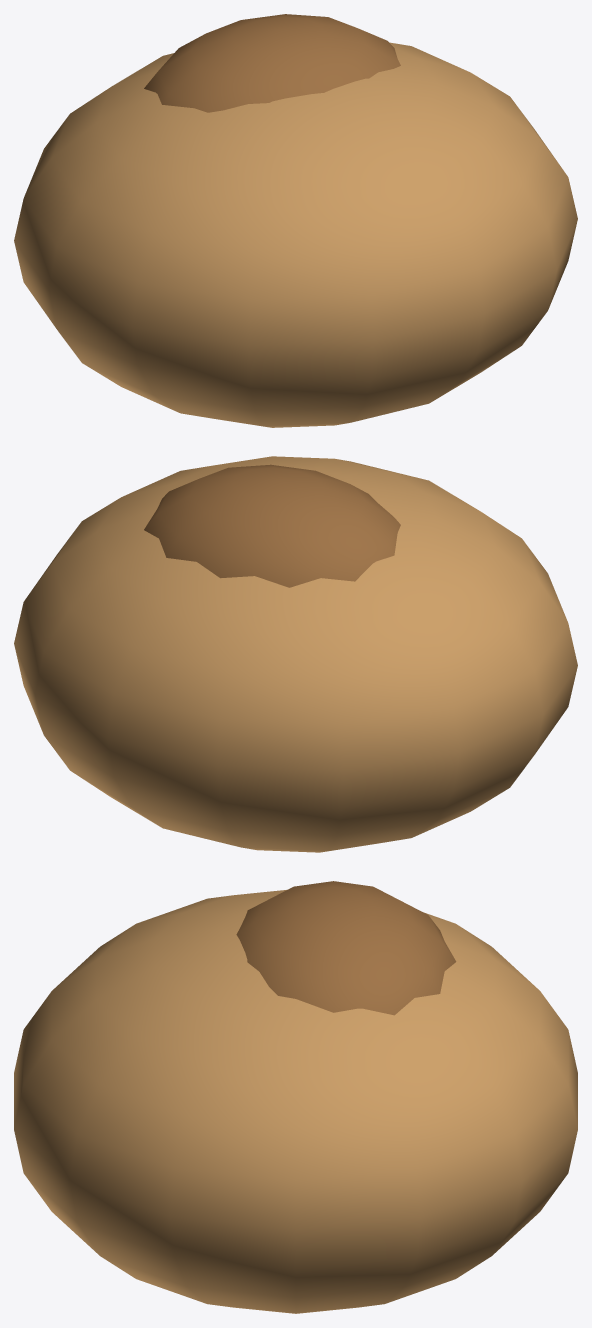
Rendered from bean_bag.glb.
The picture shows the model from 3 angles, top to bottom: view 1: azimuth 30°, elevation 25°; view 2: azimuth 150°, elevation 25°; view 3: azimuth 270°, elevation 25°; orthographic projection. The views are drawn at different scales.
Parts seen in each view (by area): view 1: bean_bag; view 2: bean_bag; view 3: bean_bag.
Part boxes in pixels (left/top/right/bottom): bean_bag: left=14, top=14, right=577, bottom=427; bean_bag: left=14, top=456, right=577, bottom=852; bean_bag: left=14, top=881, right=577, bottom=1313.
Size of the model in its own units: 32.2 by 21.68 by 30.03.
